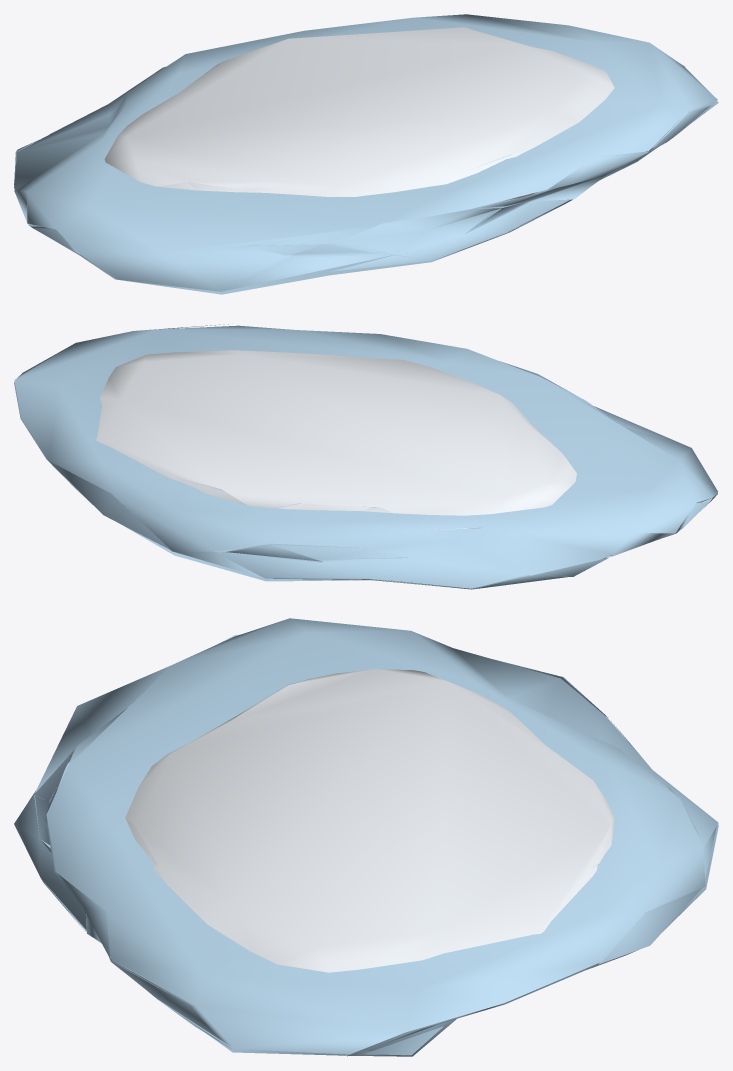
The model's file is ice-floe-lod1.glb.
The picture shows the model from 3 angles, top to bottom: view 1: azimuth 30°, elevation 25°; view 2: azimuth 150°, elevation 25°; view 3: azimuth 270°, elevation 25°; orthographic projection. The views are drawn at different scales.
Visible parts, largest first — view 1: ice-floe; view 2: ice-floe; view 3: ice-floe.
Boxes of the visible parts, box(x1,y1,x2,y2) form: ice-floe: box(14, 14, 718, 294); ice-floe: box(14, 324, 717, 589); ice-floe: box(14, 618, 718, 1056).
Size of the model in its own units: 8.74 by 0.9178 by 6.14.
